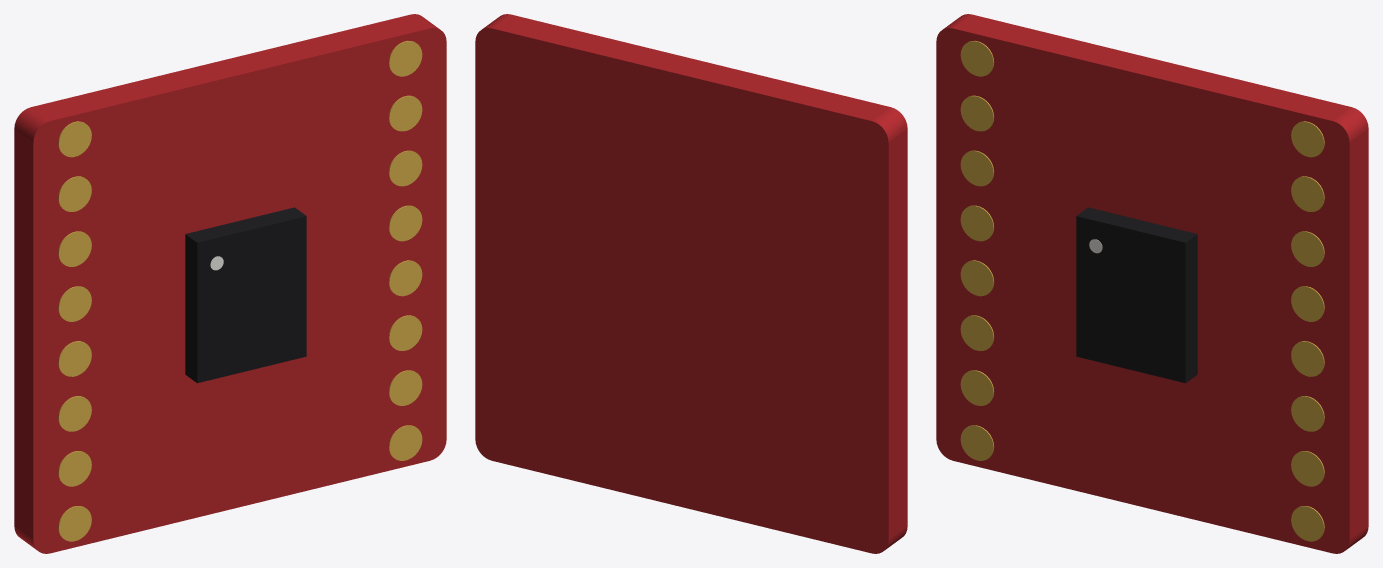
Rendered from tb6612-driver.glb.
3 views of the same model, side by side, from view 1: azimuth 30°, elevation 25°; view 2: azimuth 150°, elevation 25°; view 3: azimuth 330°, elevation 25° (orthographic).
Parts seen in each view (by area): view 1: board, chip_1, pads_2_8, pads_2_4, pads_2_5, pads_3_7, pads_2_3, pads_3_5, pads_3_6, pads_3_2, pads_3_3, pads_2_2 (+6 smaller); view 2: board; view 3: board, chip_1, pads_3_8, pads_3_4, pads_2_7, pads_3_5, pads_3_3, pads_2_5, pads_2_6, pads_2_2, pads_2_3, pads_2_4 (+6 smaller).
Part boxes in pixels (bbox=[...]): board: bbox=[14, 14, 446, 553]; chip_1: bbox=[185, 207, 306, 383]; pads_2_8: bbox=[58, 121, 91, 157]; pads_2_4: bbox=[58, 341, 91, 376]; pads_2_5: bbox=[58, 286, 91, 321]; pads_3_7: bbox=[388, 95, 422, 131]; pads_2_3: bbox=[58, 396, 91, 431]; pads_3_5: bbox=[388, 205, 422, 241]; pads_3_6: bbox=[388, 150, 422, 186]; pads_3_2: bbox=[388, 370, 422, 405]; pads_3_3: bbox=[388, 315, 422, 350]; pads_2_2: bbox=[58, 451, 91, 486]; board: bbox=[475, 14, 907, 553]; board: bbox=[936, 14, 1368, 553]; chip_1: bbox=[1076, 207, 1197, 383]; pads_3_8: bbox=[1291, 121, 1324, 157]; pads_3_4: bbox=[1291, 341, 1324, 376]; pads_2_7: bbox=[960, 95, 994, 131]; pads_3_5: bbox=[1291, 286, 1324, 321]; pads_3_3: bbox=[1291, 396, 1324, 431]; pads_2_5: bbox=[960, 205, 994, 241]; pads_2_6: bbox=[960, 150, 994, 186]; pads_2_2: bbox=[960, 370, 994, 405]; pads_2_3: bbox=[960, 315, 994, 350]; pads_2_4: bbox=[960, 260, 994, 296].
Bounding box in the file's own units: 20 × 20 × 2.62.
